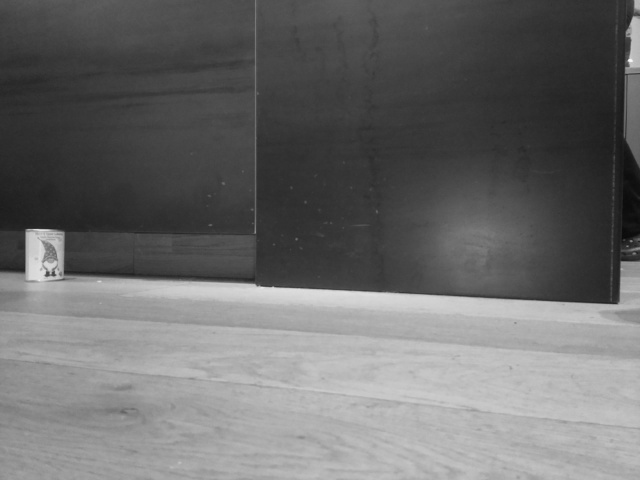gnome: (31, 235, 62, 276)
